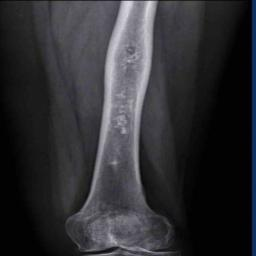cancer: (98, 27, 153, 172)
